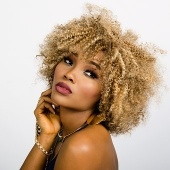female: (42, 36, 113, 110)
